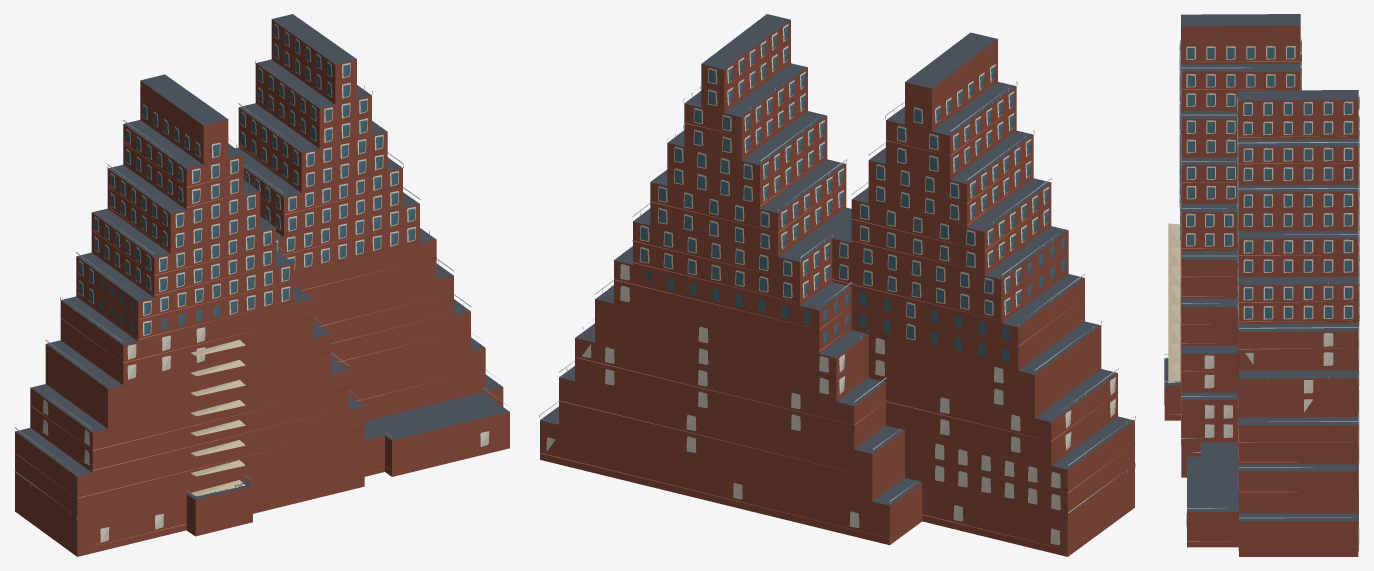
File: de-piramides.lod1.glb
3 renders of one model, left to right at view 1: azimuth 30°, elevation 25°; view 2: azimuth 150°, elevation 25°; view 3: azimuth 270°, elevation 25°, orthographic. The views are drawn at different scales.
Visible parts, largest first — view 1: de-piramides; view 2: de-piramides; view 3: de-piramides.
Part boxes in pixels (<box>): de-piramides: <box>14,14,509,556</box>; de-piramides: <box>539,14,1135,556</box>; de-piramides: <box>1164,14,1359,556</box>.
Size of the model in its own units: 65.77 by 55.01 by 25.19.
